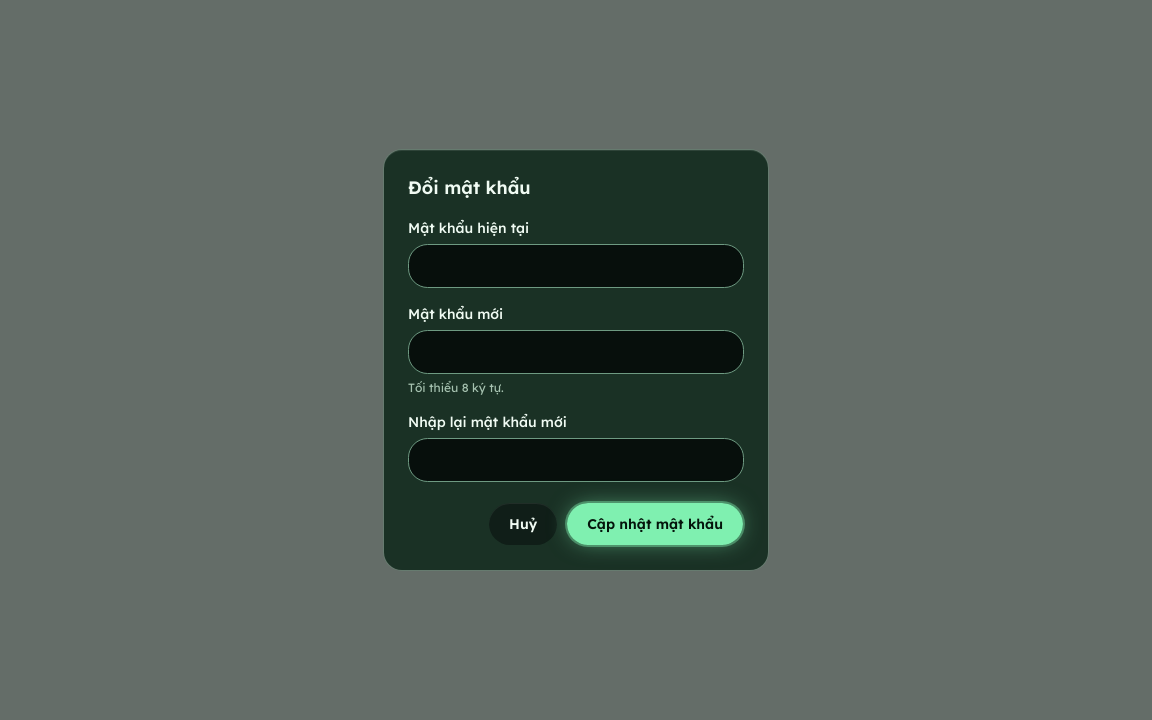
Scenario: từ chối phía client — KHÔNG lượt mạng nào được phát ra › hai ô mật khẩu mới lệch nhau → lỗi riêng, không gọi Server Action (AC-019)
Type "cu-rich-2026" into the password field labelled "Mật khẩu hiện tại" at (576, 266), box [408, 244, 744, 288]
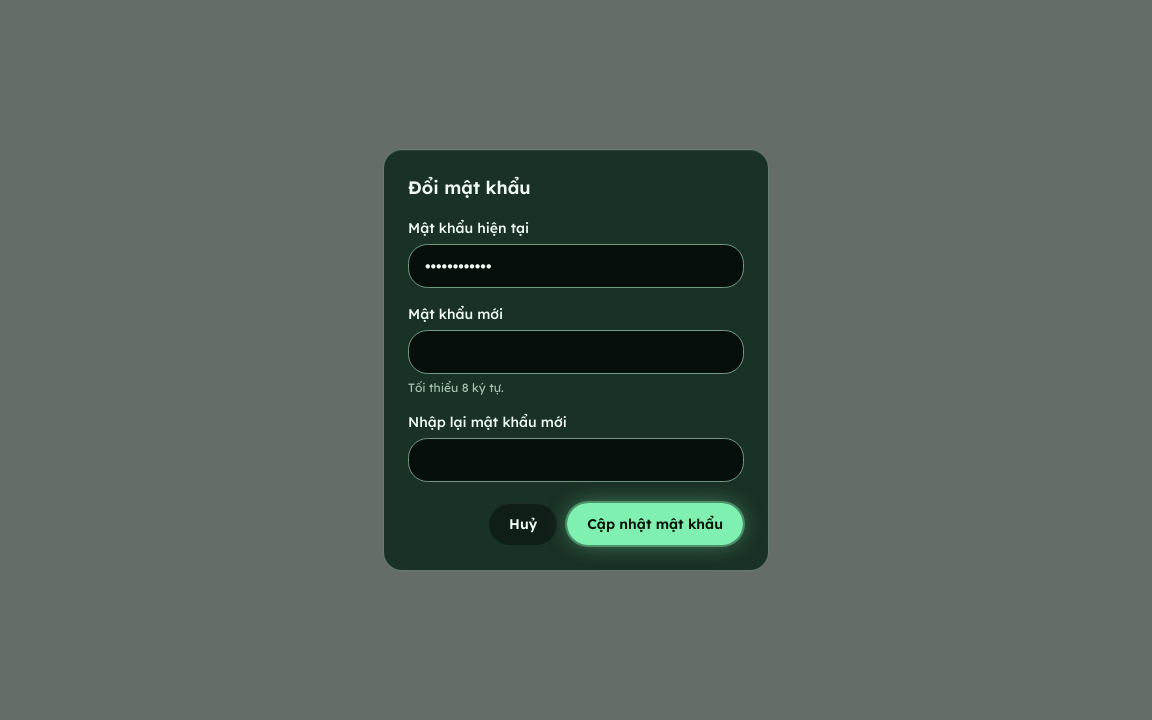
Type "moi-rich-2026" into the password field labelled "Mật khẩu mới" at (576, 352), box [408, 330, 744, 374]
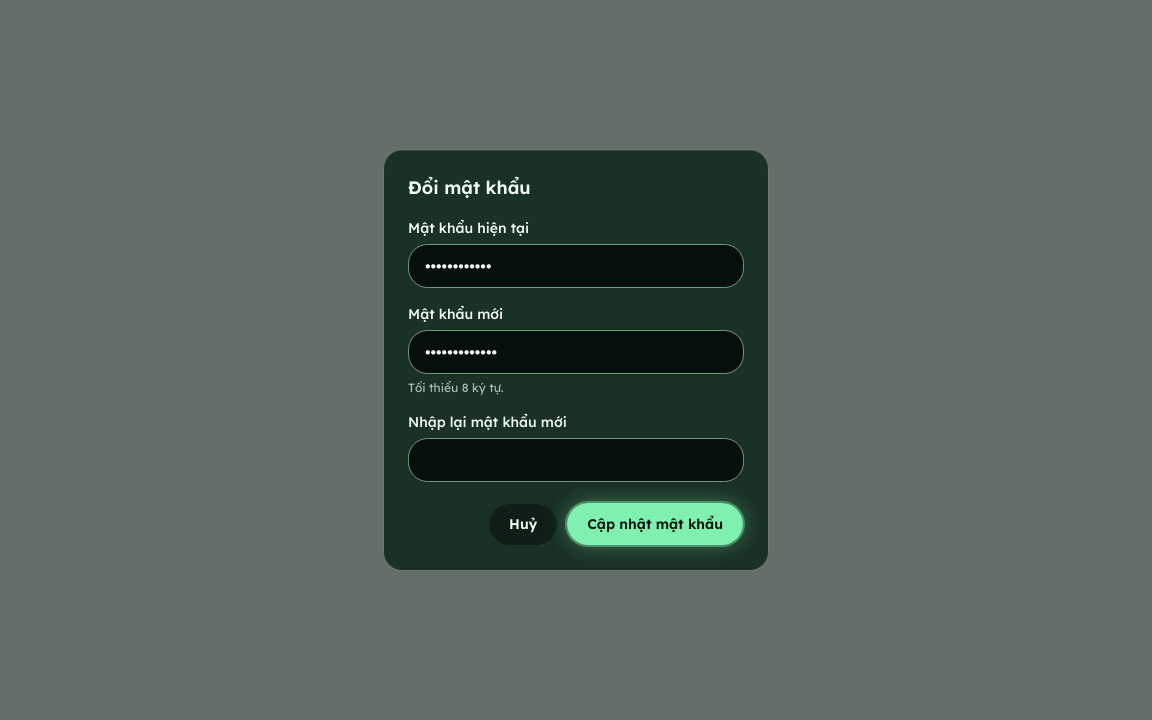
Type "moi-rich-2027" into the password field labelled "Nhập lại mật khẩu mới" at (576, 460), box [408, 438, 744, 482]
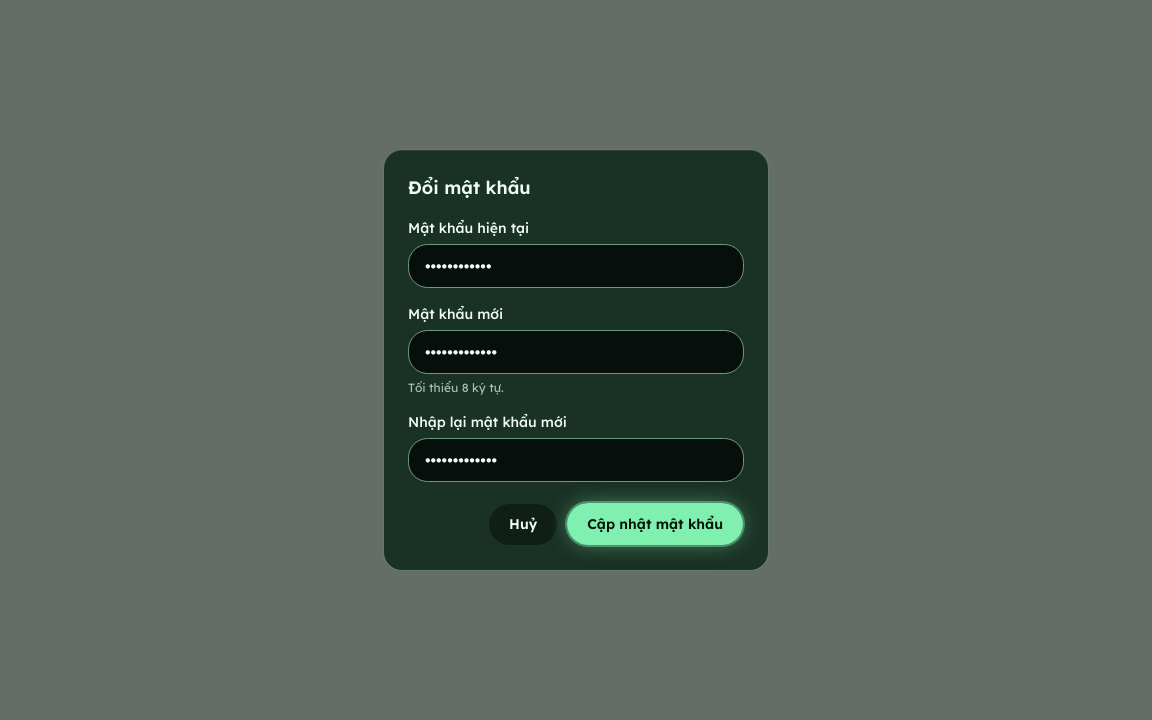
Submit the form, box [408, 218, 744, 546]
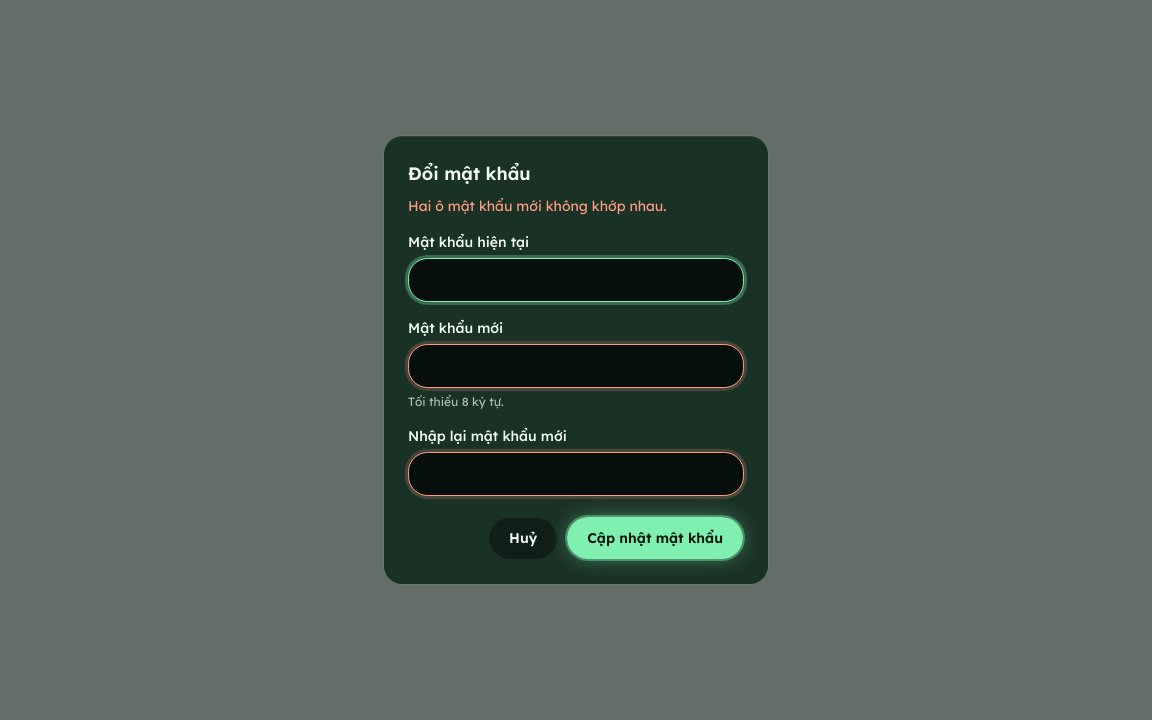
Expected: the message reads "Hai ô mật khẩu mới không khớp nhau.", [408, 197, 666, 215]
